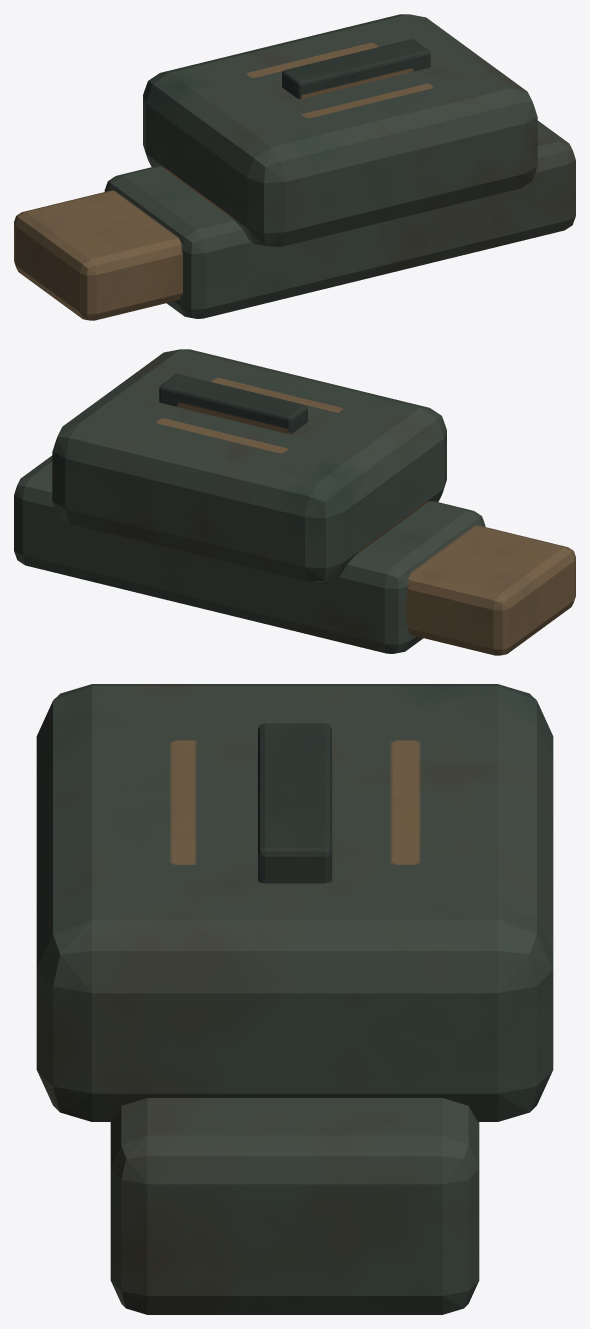
File: B1Pin.fbx
The picture shows the model from 3 angles, top to bottom: view 1: azimuth 30°, elevation 25°; view 2: azimuth 150°, elevation 25°; view 3: azimuth 270°, elevation 25°; orthographic projection. The views are drawn at different scales.
Visible parts, largest first — view 1: BronzePin; view 2: BronzePin; view 3: BronzePin.
Part boxes in pixels (box(x1,y1,x2,y2)): BronzePin: box(14, 14, 575, 320); BronzePin: box(14, 349, 575, 655); BronzePin: box(36, 684, 553, 1314).
Bounding box in the file's own units: 0.092 × 0.0329 × 0.042.
Materials: 1 (1 with a texture image).
